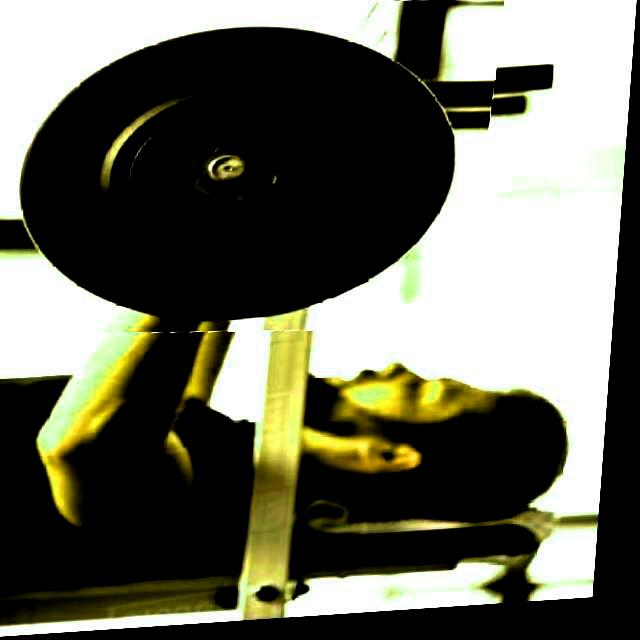barbell: (1, 1, 502, 355)
